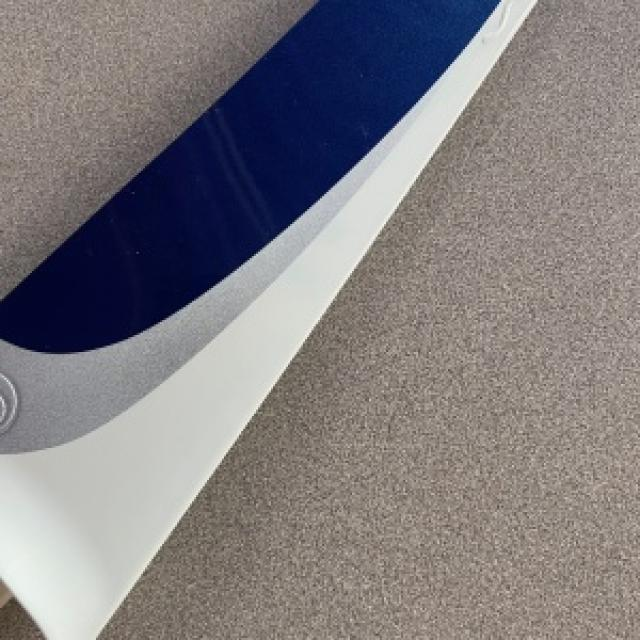healthy: (96, 0, 638, 638), (0, 0, 531, 638)
